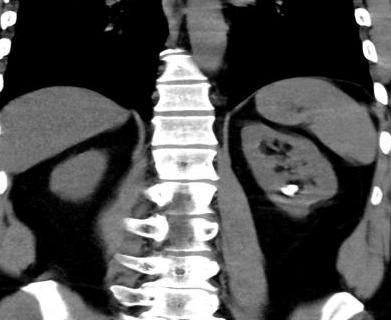Tas_Var: (281, 182, 300, 197)
